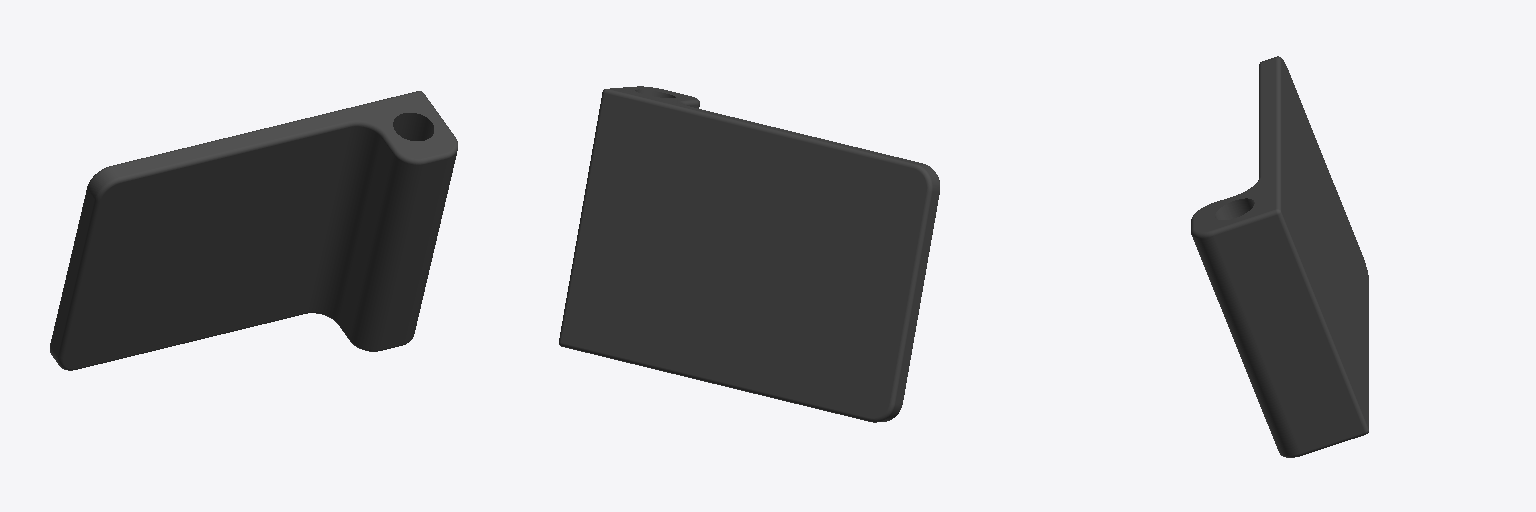
The model's file is right_flap_visual.obj.
3 views of the same model, side by side, from view 1: azimuth 30°, elevation 25°; view 2: azimuth 150°, elevation 25°; view 3: azimuth 270°, elevation 25° (orthographic).
Parts seen in each view (by area): view 1: right_flap_visual.001; view 2: right_flap_visual.001; view 3: right_flap_visual.001.
Boxes of the visible parts, x1=… form: right_flap_visual.001: x1=50, y1=91, x2=457, y2=370; right_flap_visual.001: x1=559, y1=86, x2=939, y2=422; right_flap_visual.001: x1=1191, y1=56, x2=1368, y2=457.
Size of the model in its own units: 0.2032 by 0.1473 by 0.0942.